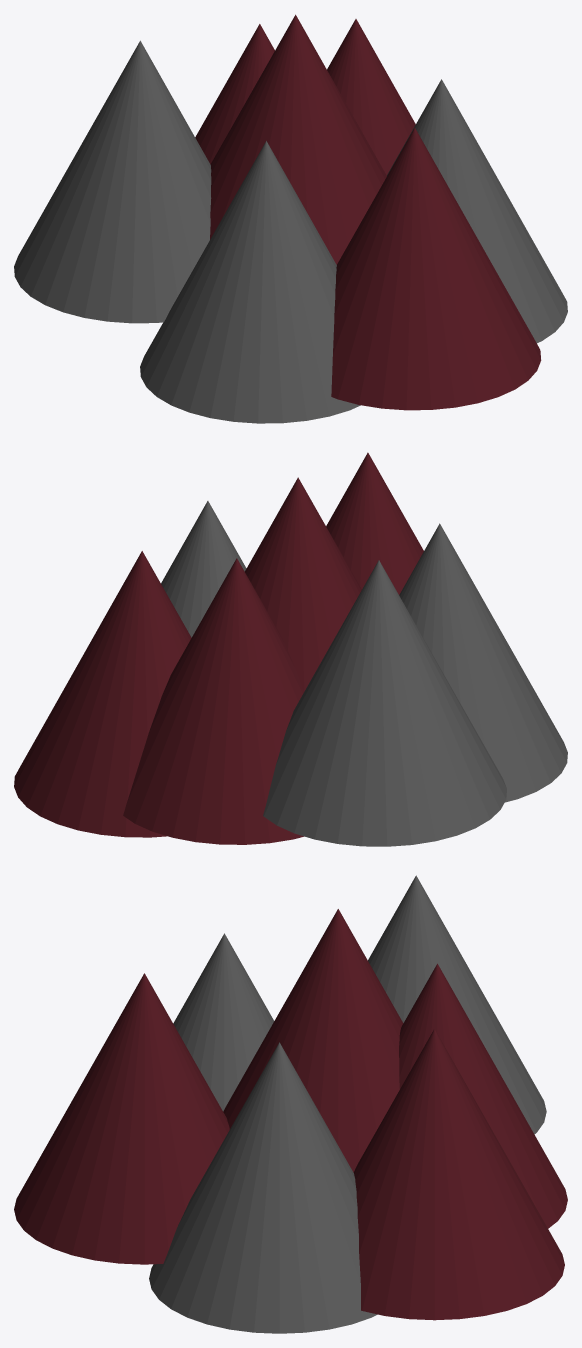
The model's file is Basic_Spikes.fbx.
3 views of the same model, one above another, from view 1: azimuth 30°, elevation 25°; view 2: azimuth 150°, elevation 25°; view 3: azimuth 270°, elevation 25° (orthographic). The views are drawn at different scales.
Visible parts, largest first — view 1: Cone.002; view 2: Cone.002; view 3: Cone.002.
Part boxes in pixels (box(x1,y1,x2,y2)): Cone.002: box(14, 14, 567, 423); Cone.002: box(14, 452, 567, 846); Cone.002: box(14, 875, 567, 1333).
Bounding box in the file's own units: 414 × 263 × 424.
